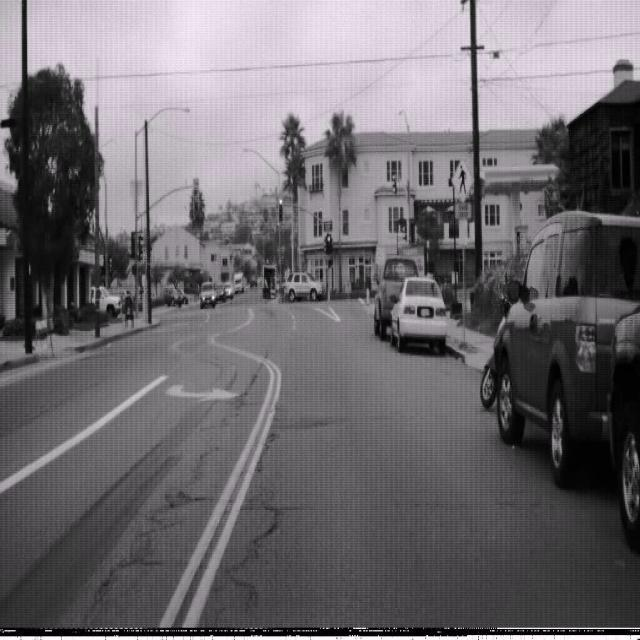pedestrianCrossing: (451, 157, 474, 203)
